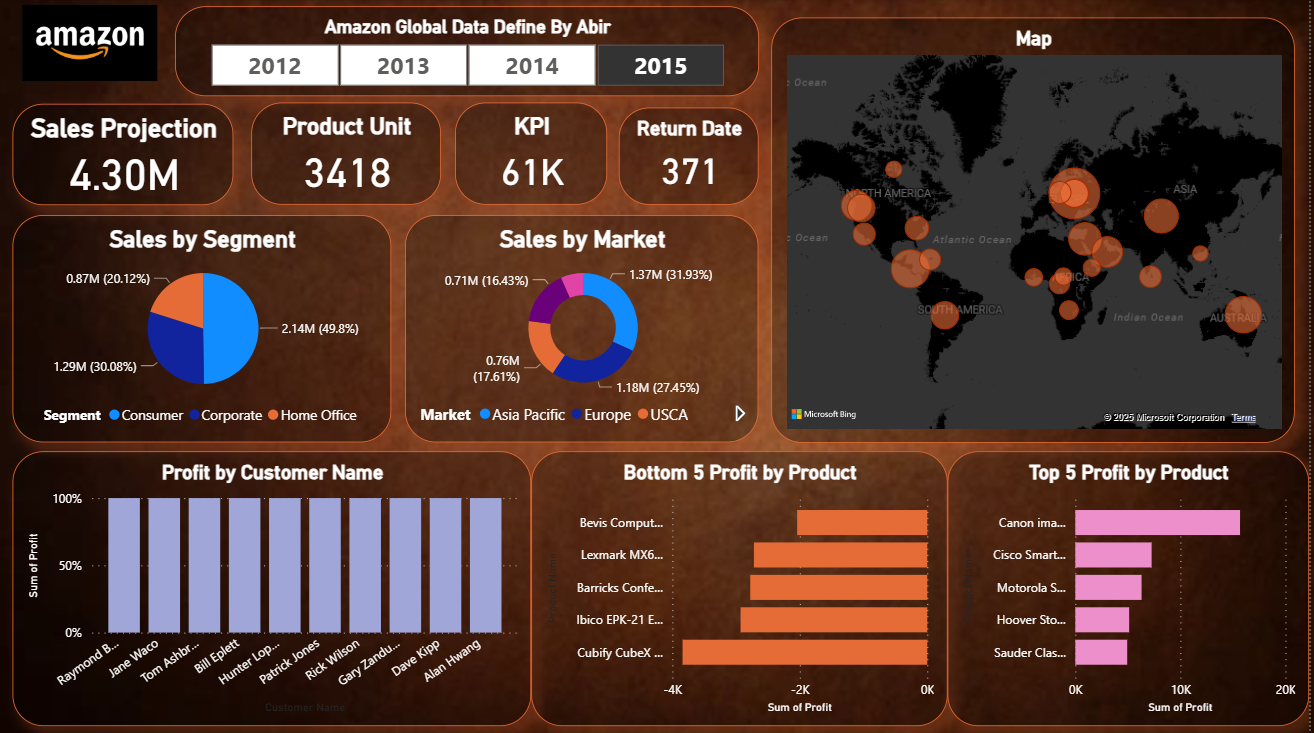

Layout of this report page (visuals, bound fields, positions):
{"tool":"powerbi","page":{"name":"Page 1","canvas":[1280,720],"ordinal":0},"visuals":[{"type":"slicer","title":"Amazon Global Data Define By Abir","fields":{"Values":["Orders.Year"]},"box":[171.1,6.1,570.9,88],"z":0},{"type":"card","title":"Product Unit","fields":{"Values":["Orders.Product Name"]},"box":[245.7,100.2,185.8,100.2],"z":1000},{"type":"image","box":[12.2,0,151.6,84.3],"z":2000},{"type":"card","title":"Sales Projection","fields":{"Values":["Orders.Sales"]},"box":[12.2,101.5,216.4,99],"z":3000},{"type":"card","title":"KPI","fields":{"Values":["Orders.Quantity"]},"box":[445,100.2,149.1,100.2],"z":4000},{"type":"card","title":"Return Date","fields":{"Values":["Orders.Ship Date"]},"box":[605.1,105.1,136.9,95.3],"z":5000},{"type":"pieChart","title":"Sales by Segment","fields":{"Category":["Orders.Segment"],"Y":["Orders.Sales"]},"box":[12.2,210.3,370.4,222.5],"z":6000},{"type":"donutChart","title":"Sales by Market","fields":{"Y":["Orders.Sales"],"Category":["Orders.Market"]},"box":[396.1,210.3,345.9,222.5],"z":7000},{"type":"hundredPercentStackedColumnChart","title":"Profit by Customer Name","fields":{"Category":["Orders.Customer Name"],"Y":["Orders.Profit"]},"box":[12.2,441.3,507.3,268.9],"z":8000},{"type":"clusteredBarChart","title":"Bottom 5 Profit by Product","fields":{"Y":["Orders.Profit"],"Category":["Orders.Product Name"]},"box":[519.5,441.3,407.1,268.9],"z":9000},{"type":"clusteredBarChart","title":"Top 5 Profit by Product","fields":{"Y":["Orders.Profit"],"Category":["Orders.Product Name"]},"box":[926.6,441.3,353.3,268.9],"z":10000},{"type":"map","title":"Map","fields":{"Category":["Orders.Region"],"Size":["Orders.Sales"]},"box":[754.2,17.1,512.2,415.6],"z":11000}]}

Visuals, with their boxes in screenshot pixels (x1, y1, x2, y2), scaled from the page's 1280x720 canvas onto the 1314x733 screenshot:
"Amazon Global Data Define By Abir" slicer: <region>176, 6, 762, 96</region>
"Product Unit" card: <region>252, 102, 443, 204</region>
image: <region>13, 0, 168, 86</region>
"Sales Projection" card: <region>13, 103, 235, 204</region>
"KPI" card: <region>457, 102, 610, 204</region>
"Return Date" card: <region>621, 107, 762, 204</region>
"Sales by Segment" pieChart: <region>13, 214, 393, 441</region>
"Sales by Market" donutChart: <region>407, 214, 762, 441</region>
"Profit by Customer Name" hundredPercentStackedColumnChart: <region>13, 449, 533, 723</region>
"Bottom 5 Profit by Product" clusteredBarChart: <region>533, 449, 951, 723</region>
"Top 5 Profit by Product" clusteredBarChart: <region>951, 449, 1313, 723</region>
"Map" map: <region>774, 17, 1300, 441</region>
